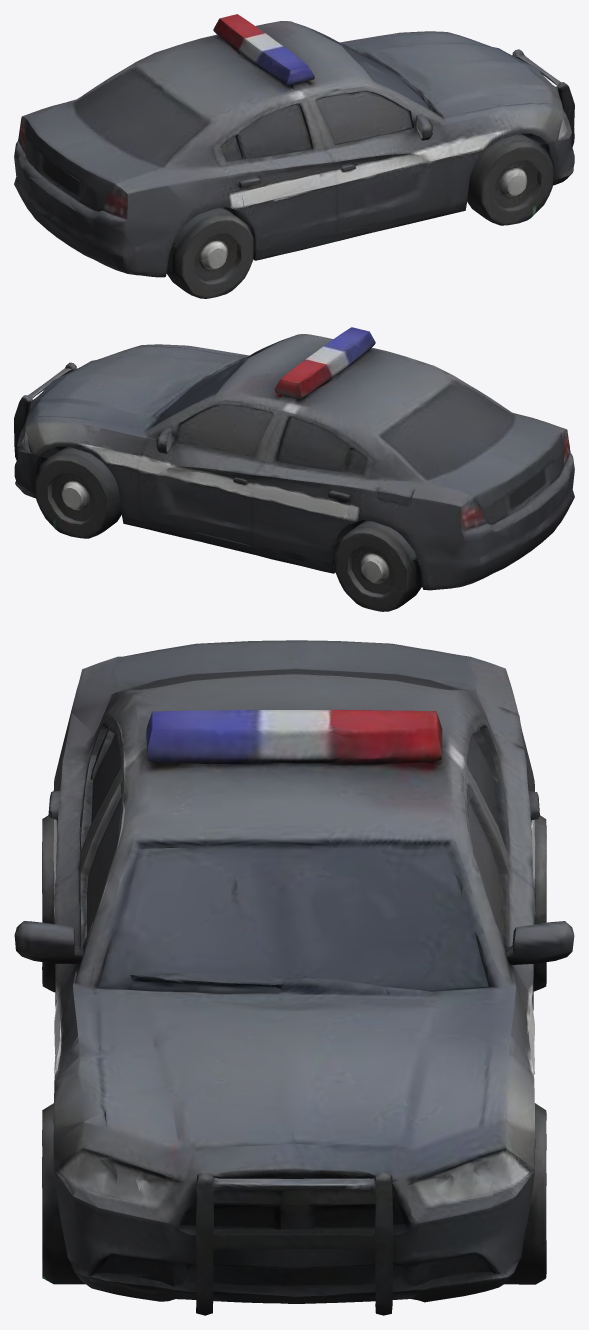
The model's file is viatura_civil.glb.
3 views of the same model, one above another, from view 1: azimuth 30°, elevation 25°; view 2: azimuth 150°, elevation 25°; view 3: azimuth 270°, elevation 25° (orthographic). The views are drawn at different scales.
Visible parts, largest first — view 1: tripo_node_3ea06e88-7f2c-4cf0-bb3d-826f2961803c; view 2: tripo_node_3ea06e88-7f2c-4cf0-bb3d-826f2961803c; view 3: tripo_node_3ea06e88-7f2c-4cf0-bb3d-826f2961803c.
Part boxes in pixels (x1,y1,x2,y2): tripo_node_3ea06e88-7f2c-4cf0-bb3d-826f2961803c: (14,14,574,298); tripo_node_3ea06e88-7f2c-4cf0-bb3d-826f2961803c: (14,327,574,611); tripo_node_3ea06e88-7f2c-4cf0-bb3d-826f2961803c: (14,640,574,1315).
Bounding box in the file's own units: 1 × 0.3527 × 0.4841.
Materials: 1 (1 with a texture image).
